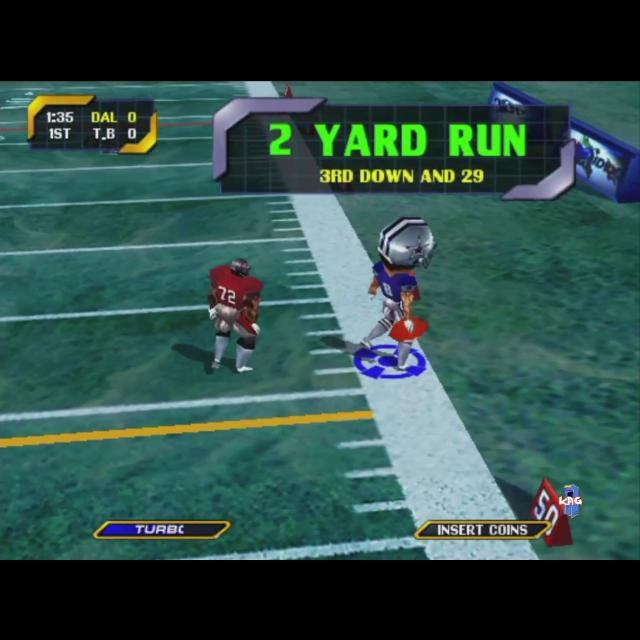player: (358, 216, 436, 372), (206, 256, 264, 372)
